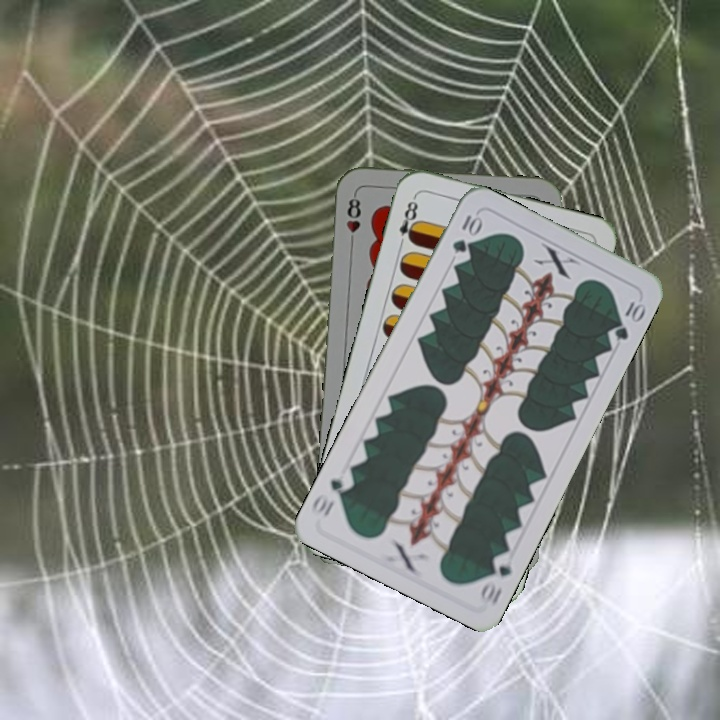E8: (395, 192, 421, 250)
G10: (476, 548, 516, 609), (448, 210, 485, 256)
H8: (342, 190, 364, 249)
